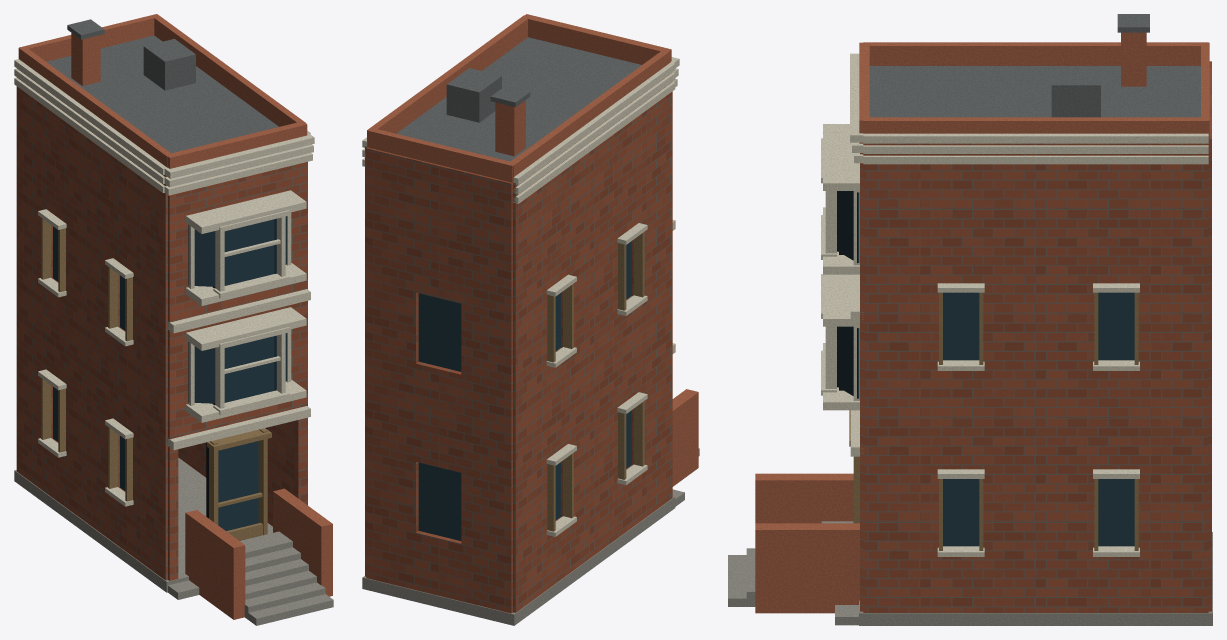
The model's file is VICT25_lod2.glb.
The picture shows the model from 3 angles, left to right: view 1: azimuth 30°, elevation 25°; view 2: azimuth 150°, elevation 25°; view 3: azimuth 270°, elevation 25°; orthographic projection. The views are drawn at different scales.
Visible parts, largest first — view 1: VICT25_LOD2; view 2: VICT25_LOD2; view 3: VICT25_LOD2.
Boxes of the visible parts, x1,y1,x2,y2 form: VICT25_LOD2: (14, 14, 333, 625); VICT25_LOD2: (362, 14, 699, 625); VICT25_LOD2: (728, 14, 1212, 625).
Bounding box in the file's own units: 3.71 × 10.45 × 8.43.
8 materials, 6 textured.
